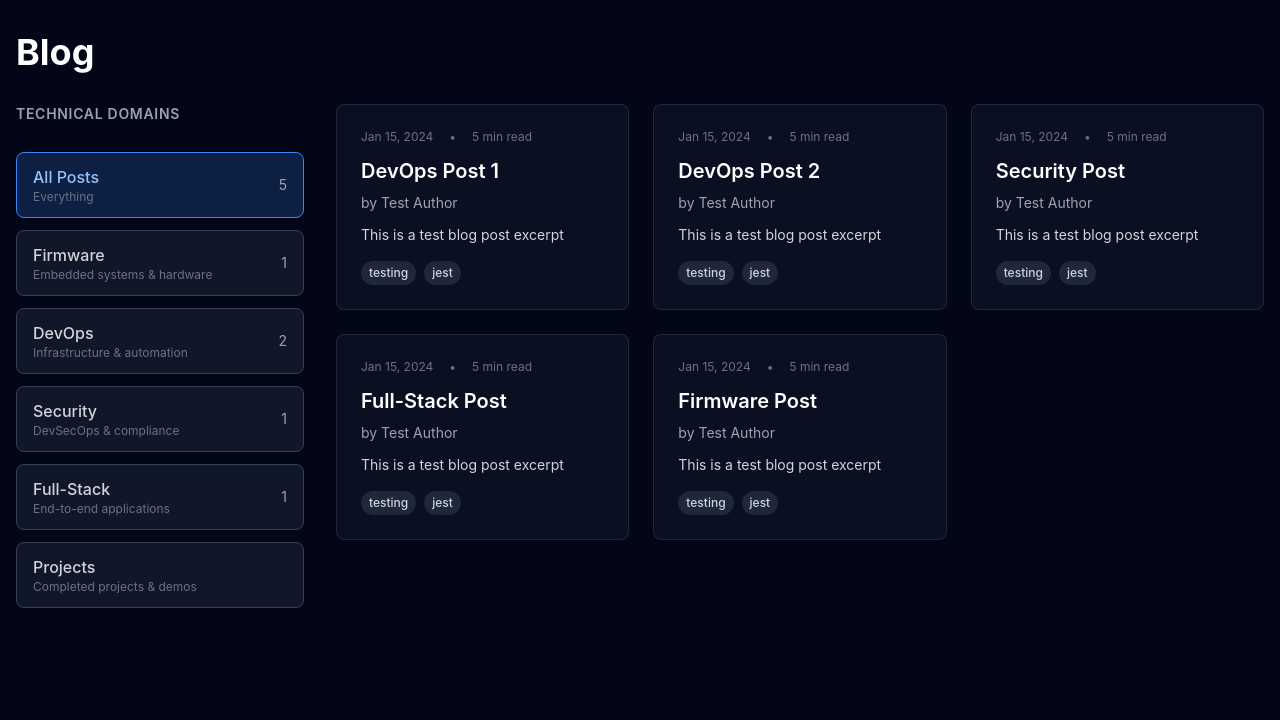
Test: BlogLayout Domain Filtering › filters posts by selected domain
The image size is (1280, 720).
Check: the heading "DevOps Post 1" is shown, box [361,159,499,183]
Check: the heading "Security Post" is shown, box [996,159,1125,183]
Note: Click DevOps filter
Click the button "DevOps Infrastructure & automation 2": (63, 333) [16,308,304,374]
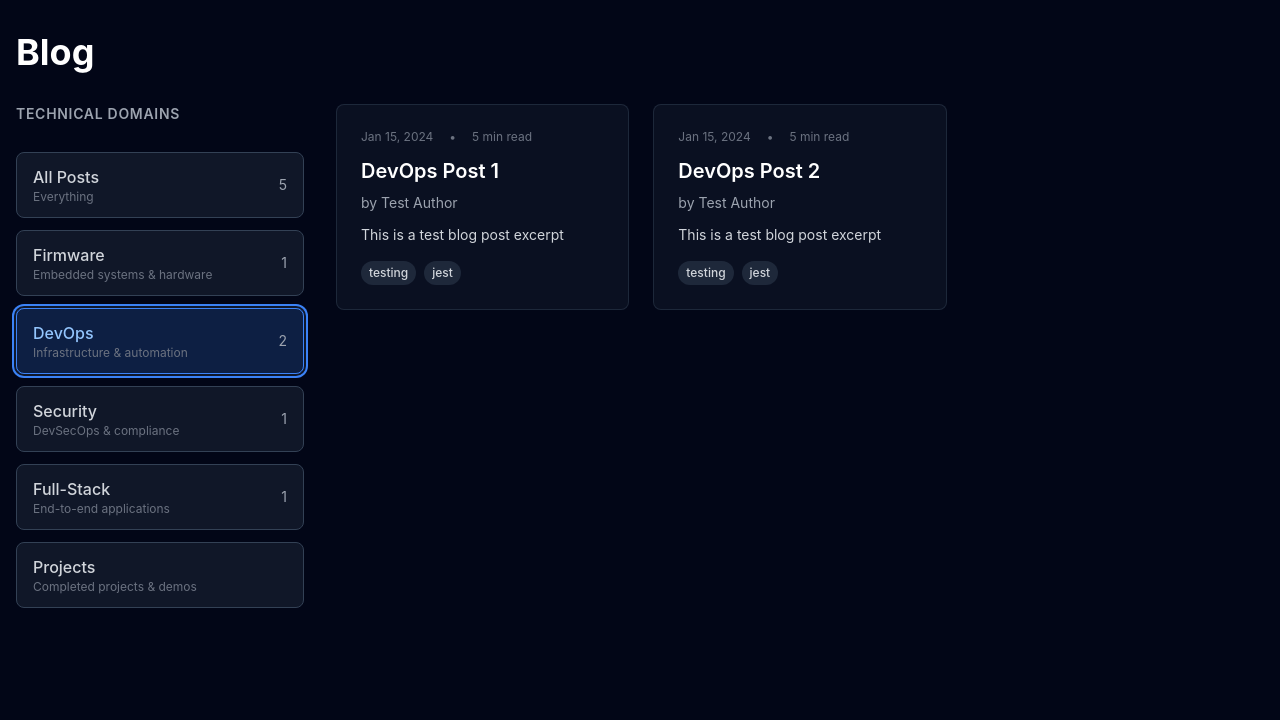
Check: the heading "DevOps Post 1" is shown, box [361,159,499,183]
Check: the link "Security Post" is gone
Check: the link "Full-Stack Post" is gone
